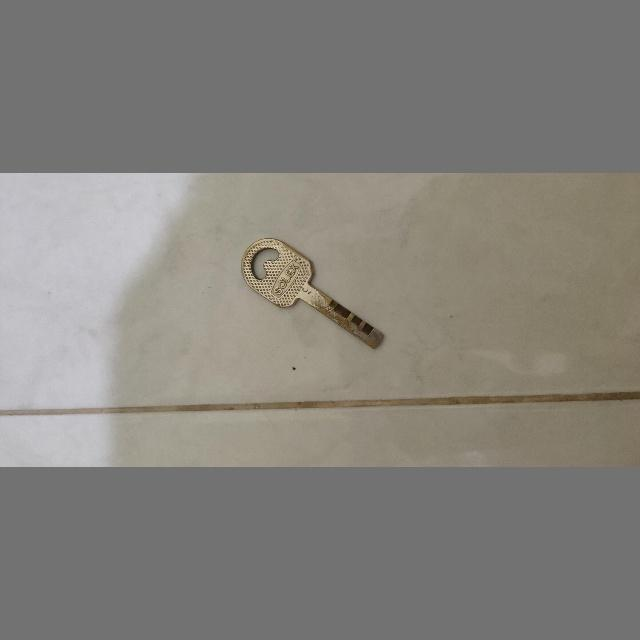Keys: (236, 230, 388, 354)
